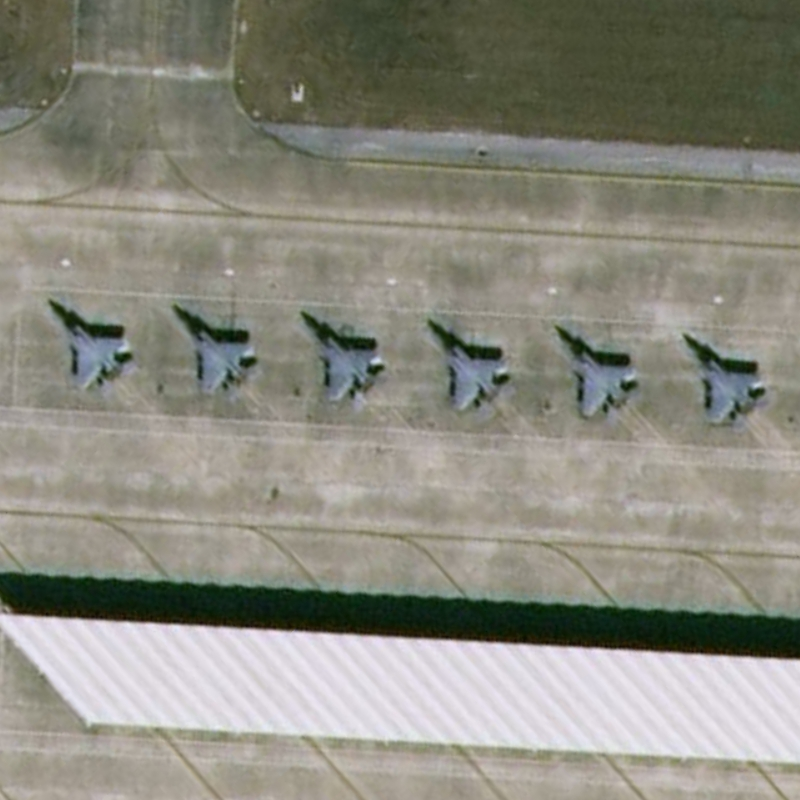A13: (44, 292, 144, 407), (168, 298, 269, 408), (423, 313, 520, 426), (551, 317, 645, 427), (297, 305, 391, 414), (677, 330, 773, 432)
